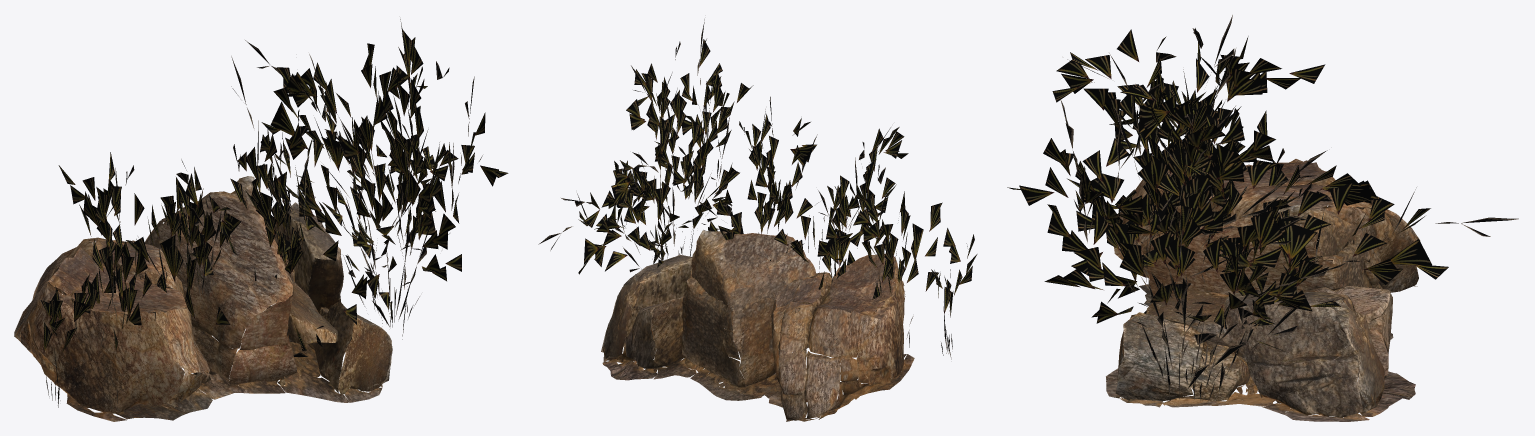
Rendered from v097_desert_nature.glb.
3 views of the same model, side by side, from view 1: azimuth 30°, elevation 25°; view 2: azimuth 150°, elevation 25°; view 3: azimuth 270°, elevation 25° (orthographic). The views are drawn at different scales.
Visible parts, largest first — view 1: desert_scatter_stone, desert_scrub_bush; view 2: desert_scatter_stone, desert_scrub_bush; view 3: desert_scrub_bush, desert_scatter_stone.
Boxes of the visible parts, x1,y1,x2,y2 form: desert_scatter_stone: [14, 176, 392, 421]; desert_scrub_bush: [40, 19, 508, 407]; desert_scatter_stone: [601, 230, 914, 421]; desert_scrub_bush: [538, 19, 977, 359]; desert_scrub_bush: [1007, 15, 1518, 400]; desert_scatter_stone: [1106, 159, 1420, 421].
Size of the model in its own units: 1.54 by 1.13 by 1.55.
Materials: 4 (4 with a texture image).
